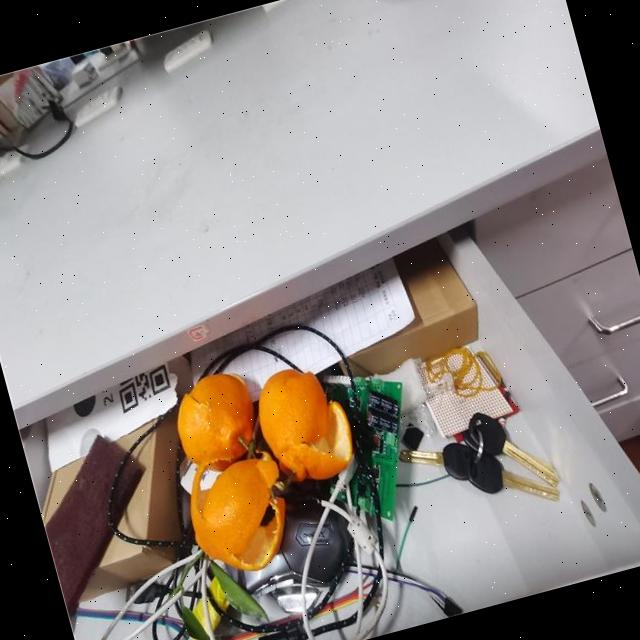orange-peel: (152, 341, 380, 583)
